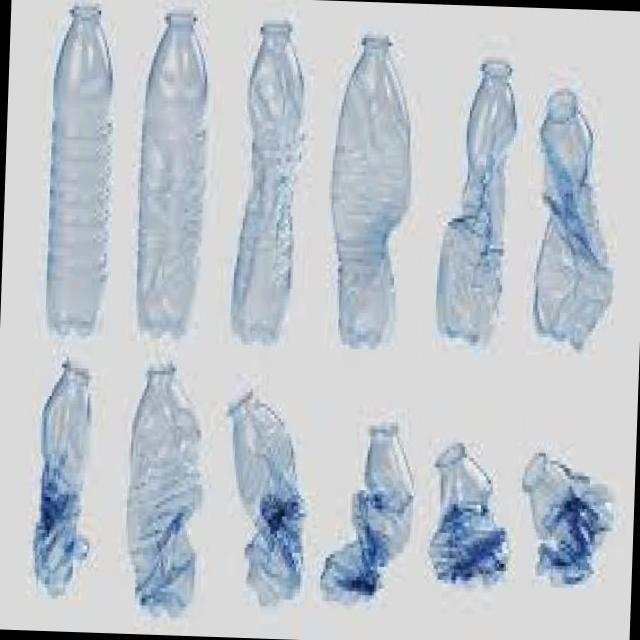defected: (317, 27, 429, 352), (126, 2, 226, 339), (227, 0, 318, 350), (522, 77, 626, 352), (431, 48, 523, 358), (114, 354, 216, 624), (211, 373, 318, 612), (22, 344, 112, 606), (320, 401, 420, 630), (420, 428, 512, 616), (514, 454, 618, 600)
good: (34, 0, 126, 352)
